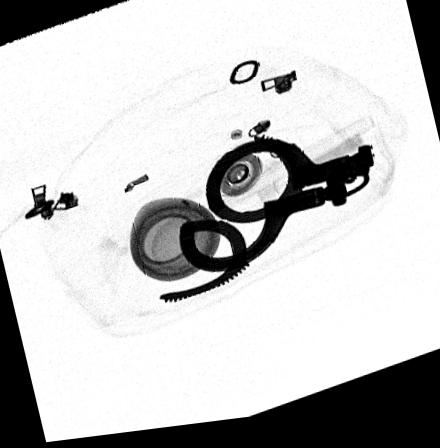HandCuffs: (154, 138, 378, 307)
